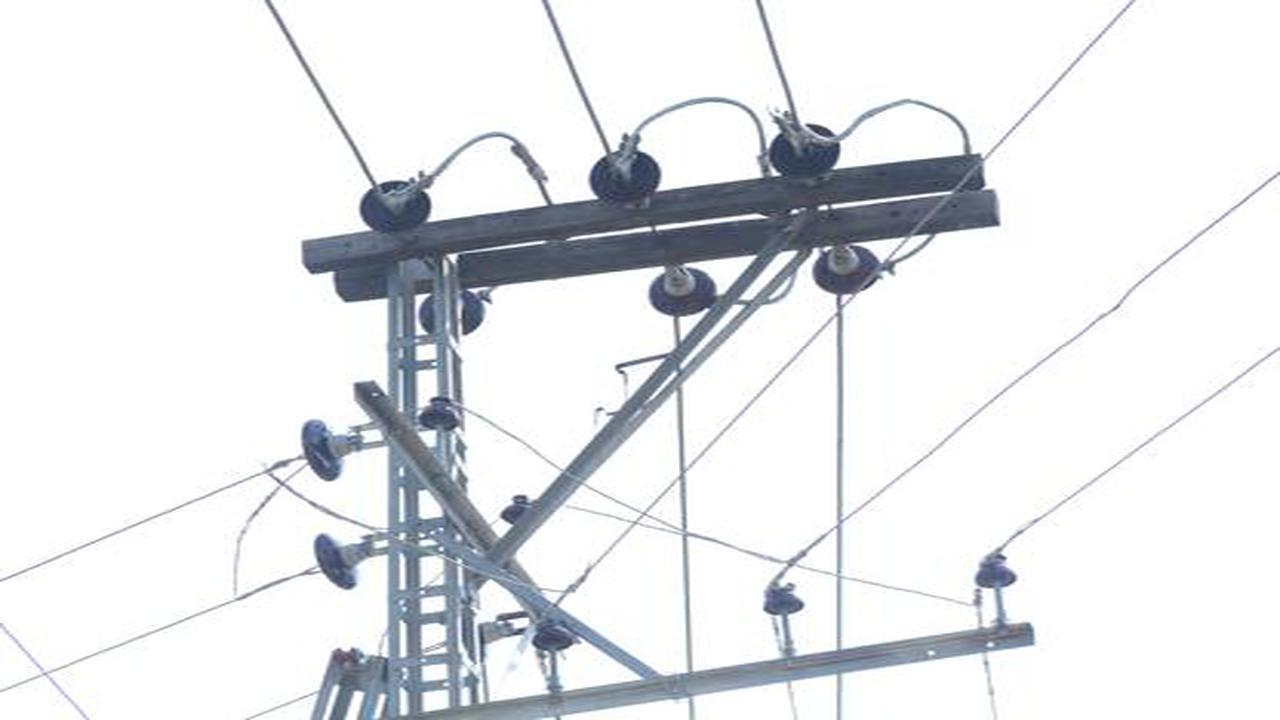insulator_disc: (583, 144, 669, 205), (768, 116, 845, 181), (292, 414, 367, 478), (356, 175, 437, 234), (309, 526, 381, 591), (808, 247, 887, 297), (643, 274, 724, 317), (421, 293, 500, 333)
insulator_pin: (525, 601, 583, 662), (972, 548, 1022, 595), (418, 393, 466, 440), (762, 575, 808, 624), (496, 490, 540, 527)
